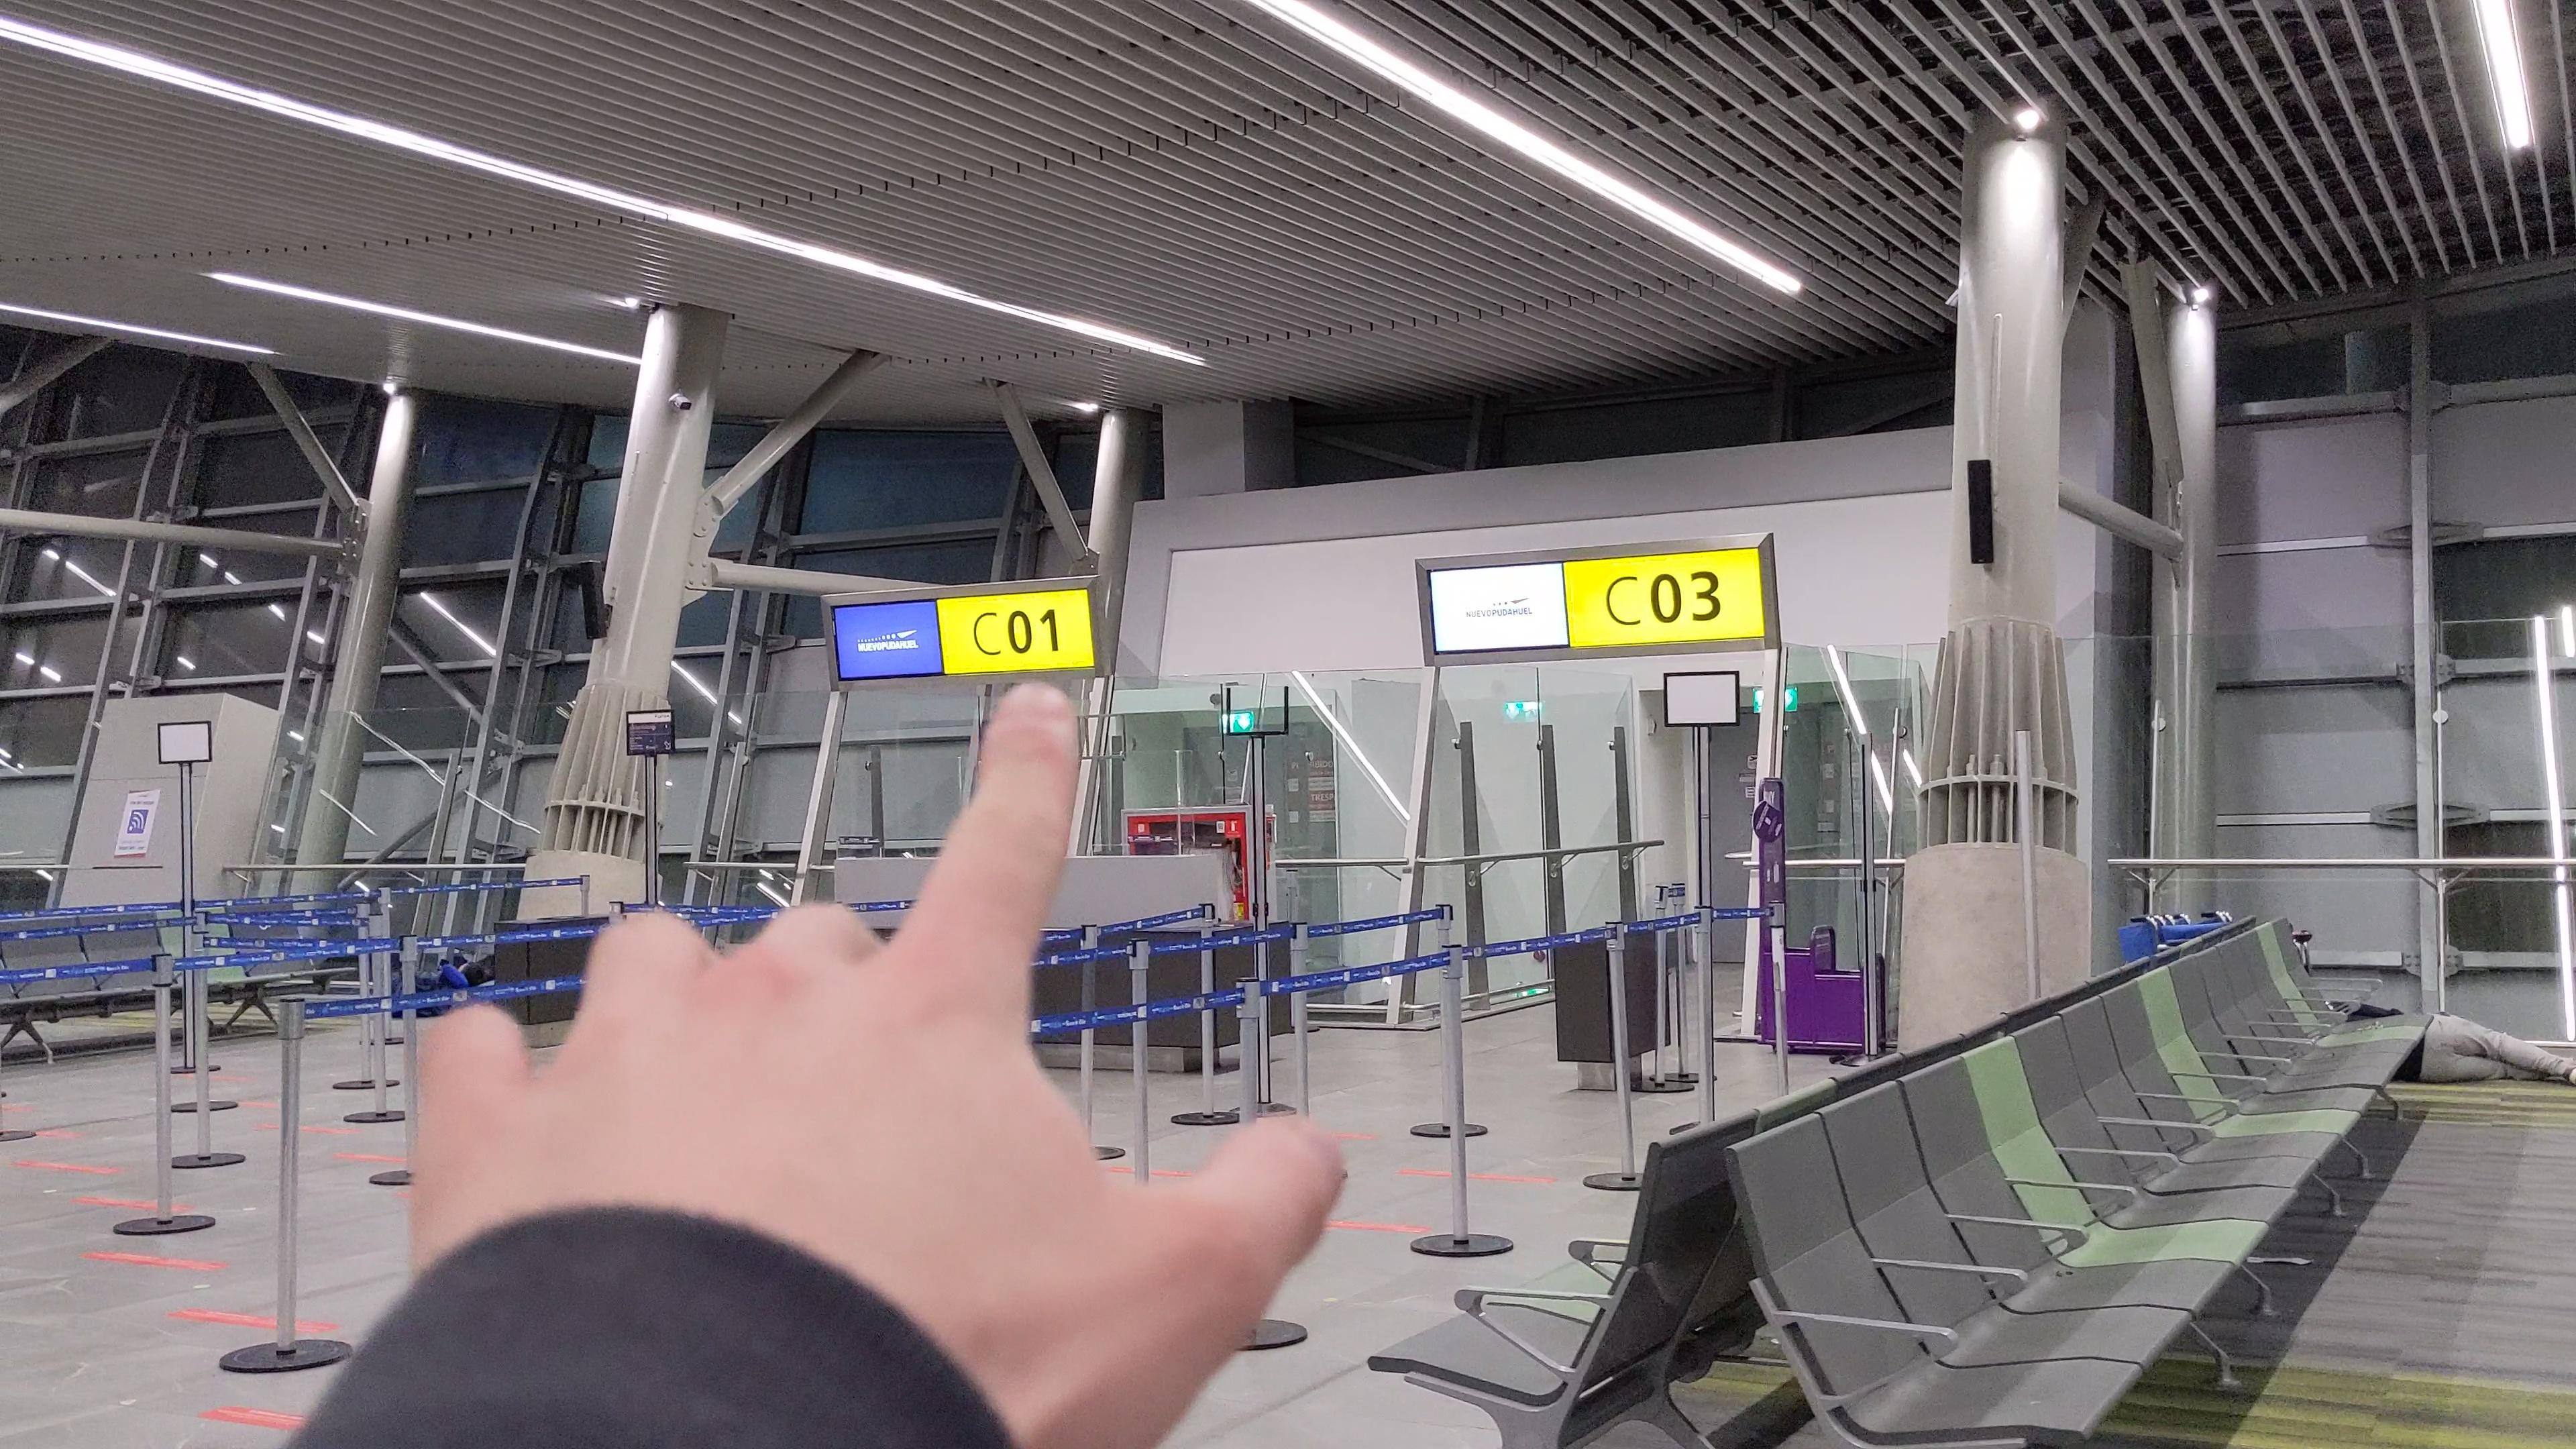extinguisher symbol: (1228, 819, 1238, 833)
